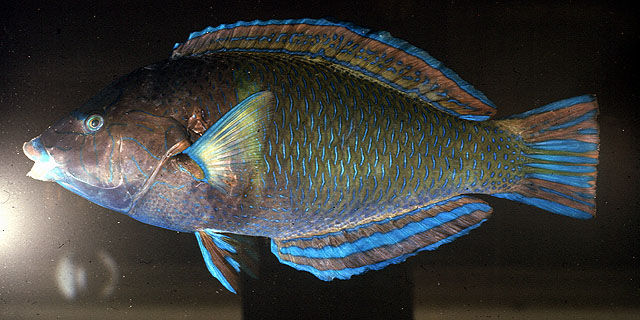fish: (23, 19, 601, 294)
